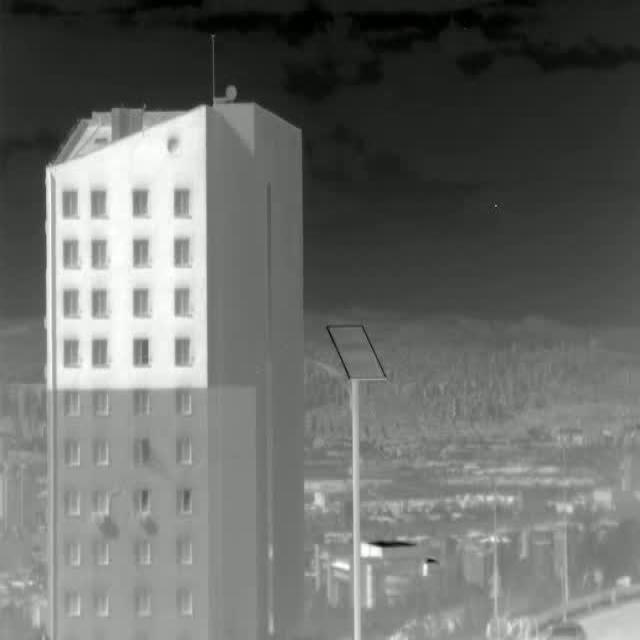Car: (540, 621, 588, 640)
